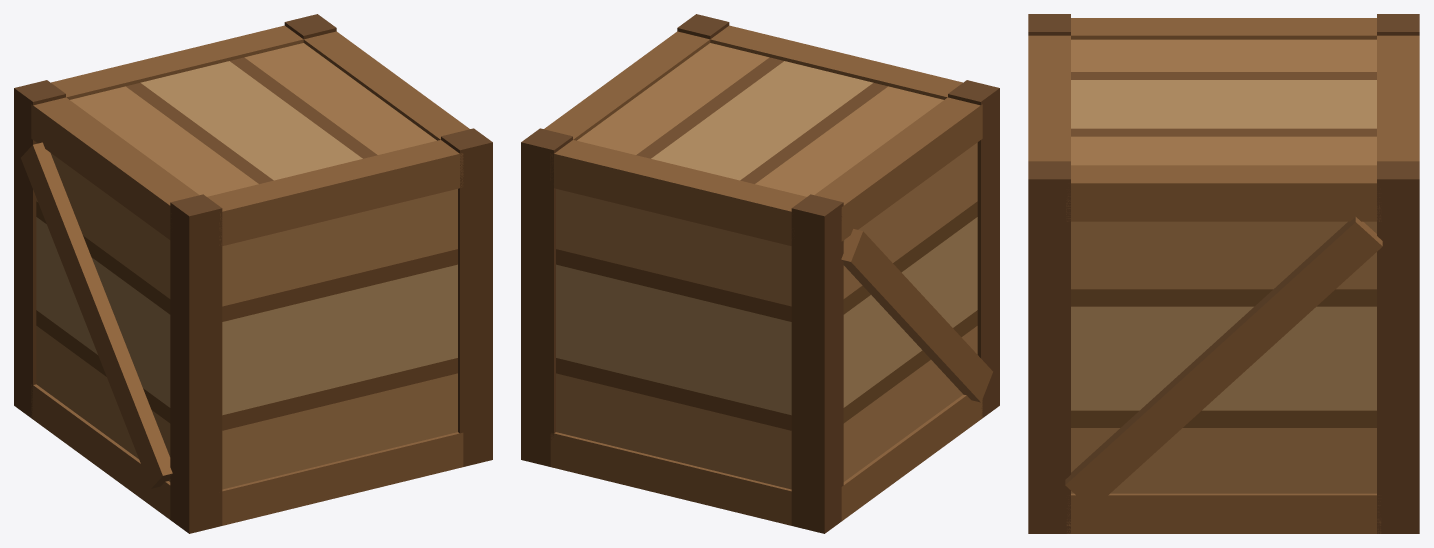
The model's file is crate.glb.
3 views of the same model, side by side, from view 1: azimuth 30°, elevation 25°; view 2: azimuth 150°, elevation 25°; view 3: azimuth 270°, elevation 25° (orthographic). The views are drawn at different scales.
Visible parts, largest first — view 1: crate; view 2: crate; view 3: crate.
Boxes of the visible parts, x1,y1,x2,y2 form: crate: [14, 14, 492, 533]; crate: [521, 14, 999, 533]; crate: [1028, 14, 1419, 533].
Size of the model in its own units: 0.98 by 0.92 by 0.92.
